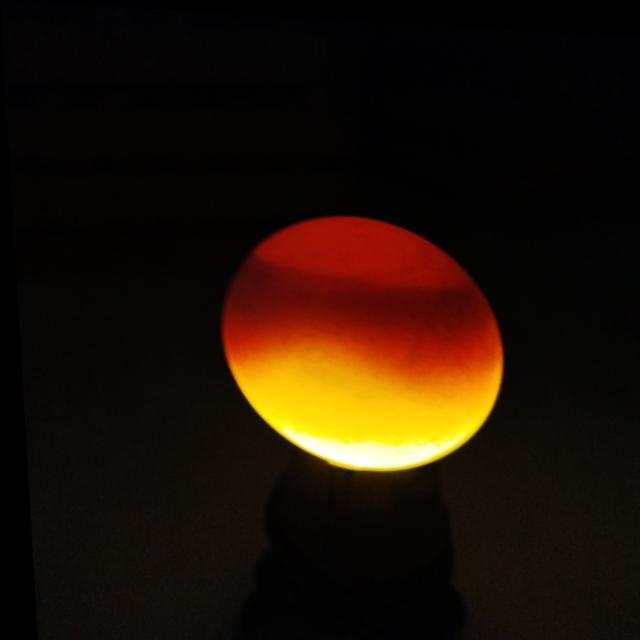Area Infectada: (219, 252, 486, 334)
